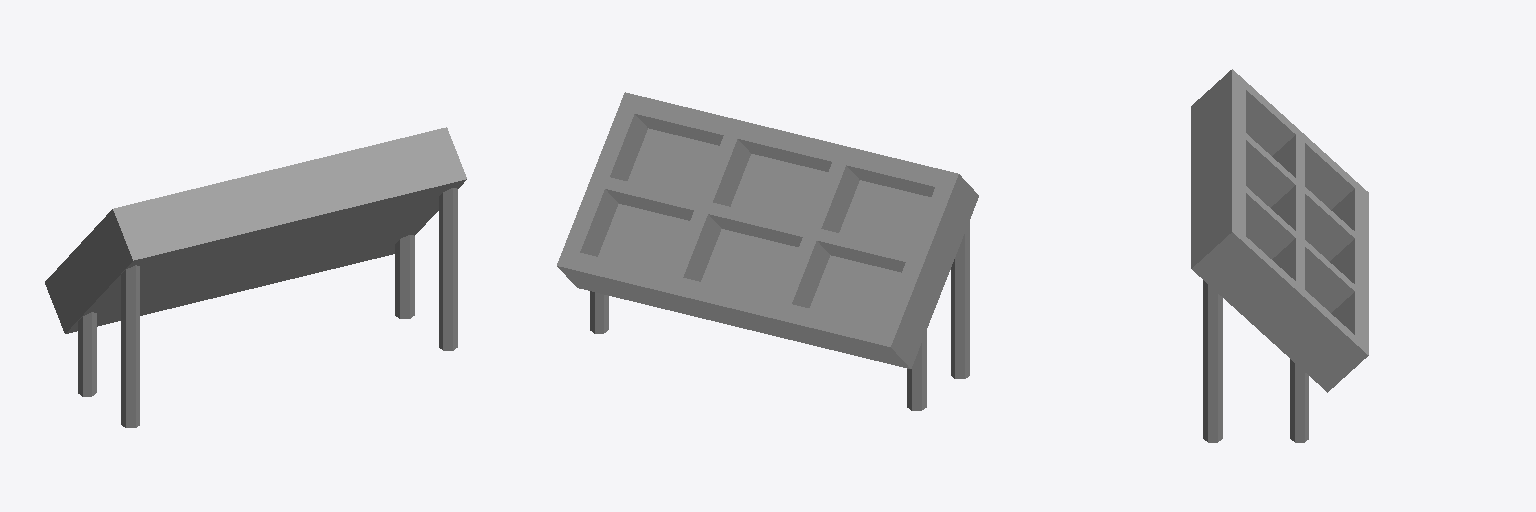
The picture shows the model from 3 angles: view 1: azimuth 30°, elevation 25°; view 2: azimuth 150°, elevation 25°; view 3: azimuth 270°, elevation 25°; orthographic projection.
Visible parts, largest first — view 1: Showcase; view 2: Showcase; view 3: Showcase.
Part boxes in pixels (x1,y1,x2,y2): Showcase: (45,127,466,427); Showcase: (557,92,978,410); Showcase: (1191,69,1368,442).
Bounding box in the file's own units: 2.4 × 1.45 × 1.1.